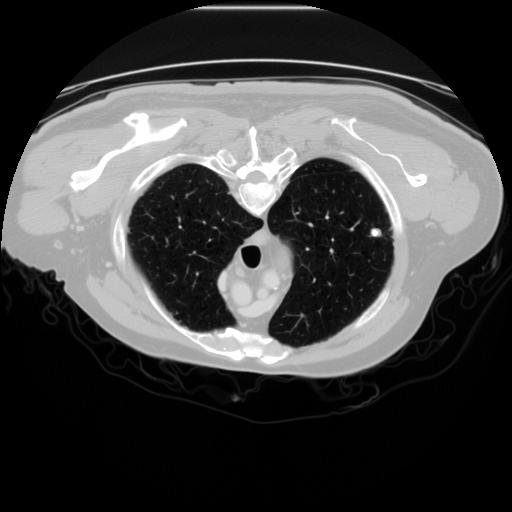nodule: (366, 226, 383, 243)
